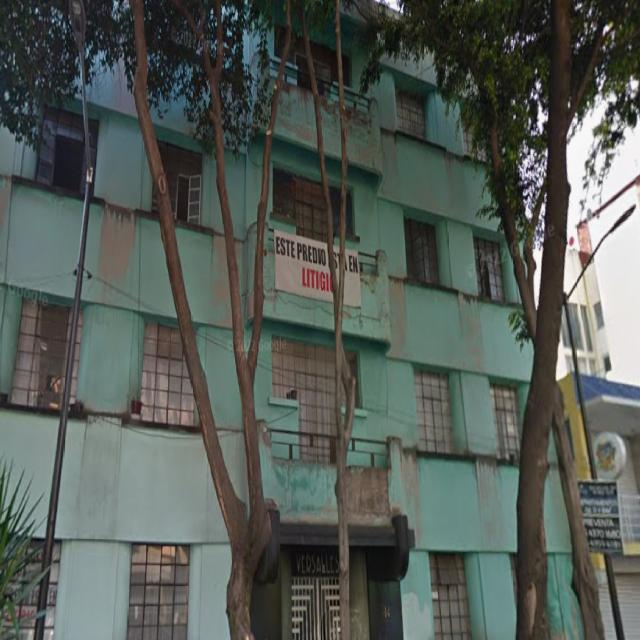stamps: (275, 231, 361, 305)
